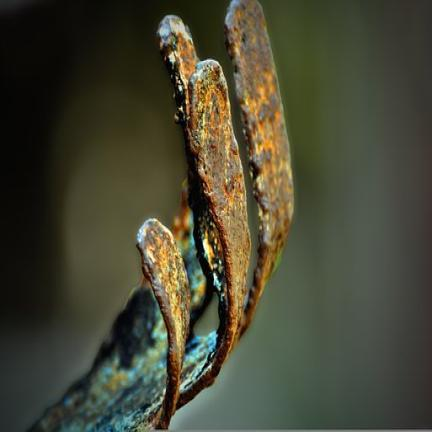karat: (35, 0, 293, 430)
